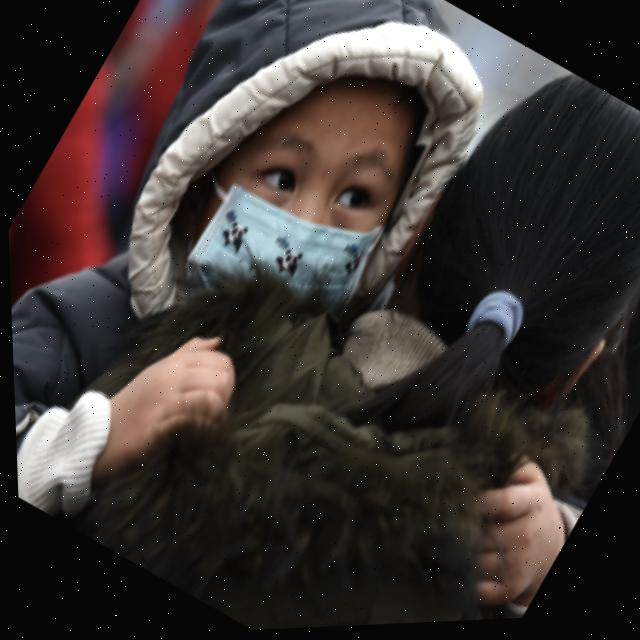Mask: (139, 90, 421, 377)
